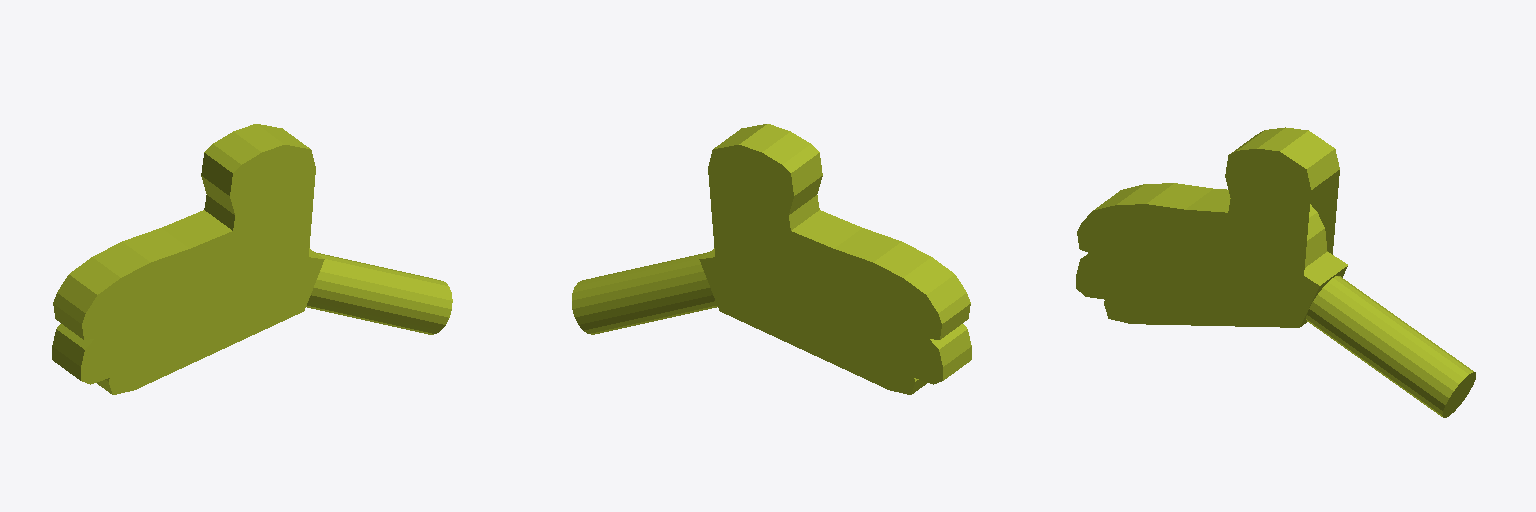
File: left_hand.obj
3 views of the same model, side by side, from view 1: azimuth 30°, elevation 25°; view 2: azimuth 150°, elevation 25°; view 3: azimuth 330°, elevation 25° (orthographic).
Visible parts, largest first — view 1: right_hand1:right_hand; view 2: right_hand1:right_hand; view 3: right_hand1:right_hand.
Part boxes in pixels (left/top/right/bottom): right_hand1:right_hand: left=52, top=124, right=452, bottom=394; right_hand1:right_hand: left=572, top=124, right=971, bottom=394; right_hand1:right_hand: left=1076, top=127, right=1475, bottom=417.
Size of the model in its own units: 4.08 by 2.44 by 0.5358.